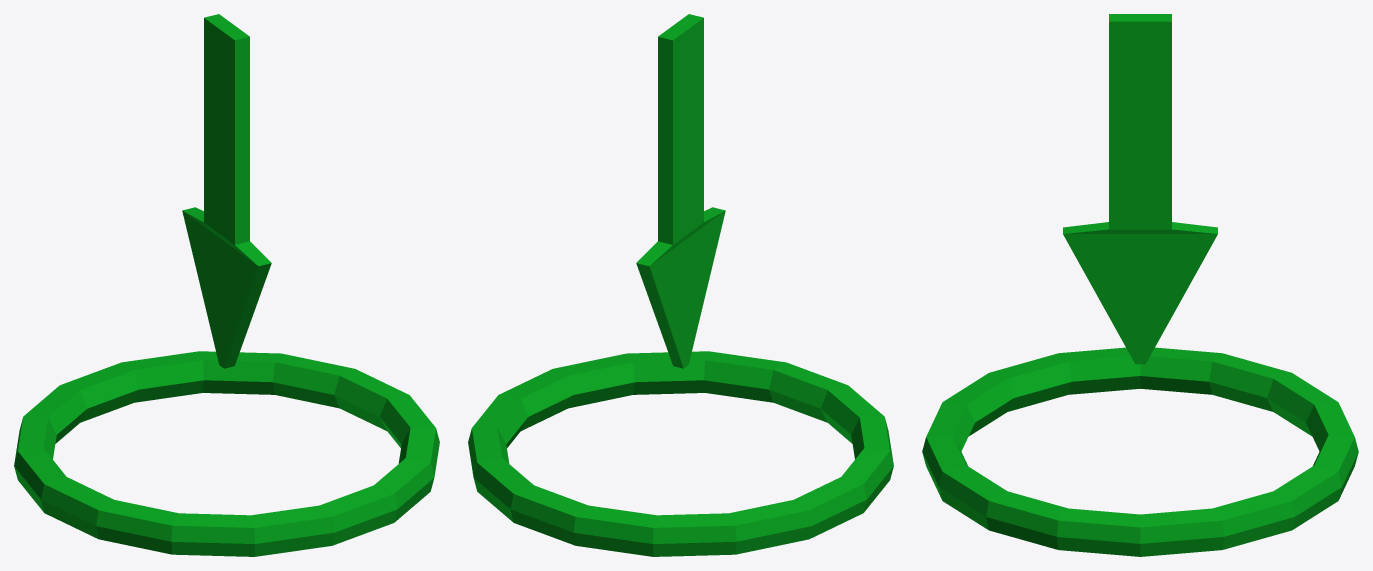
The model's file is moveIcon.fbx.
3 views of the same model, side by side, from view 1: azimuth 30°, elevation 25°; view 2: azimuth 150°, elevation 25°; view 3: azimuth 270°, elevation 25° (orthographic).
Visible parts, largest first — view 1: Cube, Cube.001; view 2: Cube, Cube.001; view 3: Cube, Cube.001.
Part boxes in pixels (x1=…): Cube: x1=14, y1=351, x2=439, y2=556; Cube.001: x1=182, y1=14, x2=271, y2=368; Cube: x1=468, y1=351, x2=893, y2=556; Cube.001: x1=636, y1=14, x2=725, y2=368; Cube: x1=922, y1=347, x2=1358, y2=556; Cube.001: x1=1063, y1=14, x2=1217, y2=364.
Bounding box in the file's own units: 82.01 × 93.37 × 82.01.
